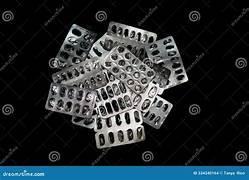pill_Strip: (46, 22, 187, 147), (101, 45, 154, 93), (89, 22, 156, 58), (146, 36, 187, 89), (94, 109, 144, 148), (52, 57, 108, 90), (56, 24, 96, 67), (45, 83, 95, 117), (143, 58, 187, 94), (89, 33, 146, 59), (96, 79, 132, 117), (150, 61, 187, 94), (52, 58, 100, 83), (95, 125, 144, 148), (107, 21, 156, 43), (94, 109, 142, 131), (143, 58, 171, 94), (69, 68, 115, 89), (143, 96, 172, 128), (158, 56, 187, 88), (146, 36, 179, 63), (67, 68, 108, 89), (132, 82, 158, 112), (89, 33, 119, 57), (153, 63, 172, 94), (118, 38, 146, 59), (71, 109, 97, 128), (122, 40, 146, 59), (71, 116, 95, 128), (103, 69, 118, 82), (103, 69, 116, 82), (141, 57, 153, 67), (85, 51, 98, 60), (86, 51, 95, 59), (86, 53, 92, 59), (158, 87, 163, 94)
